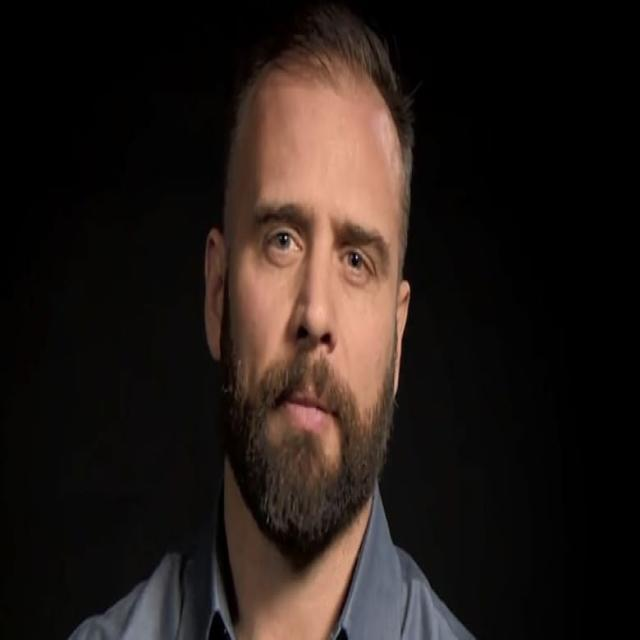human: (76, 0, 492, 640)
